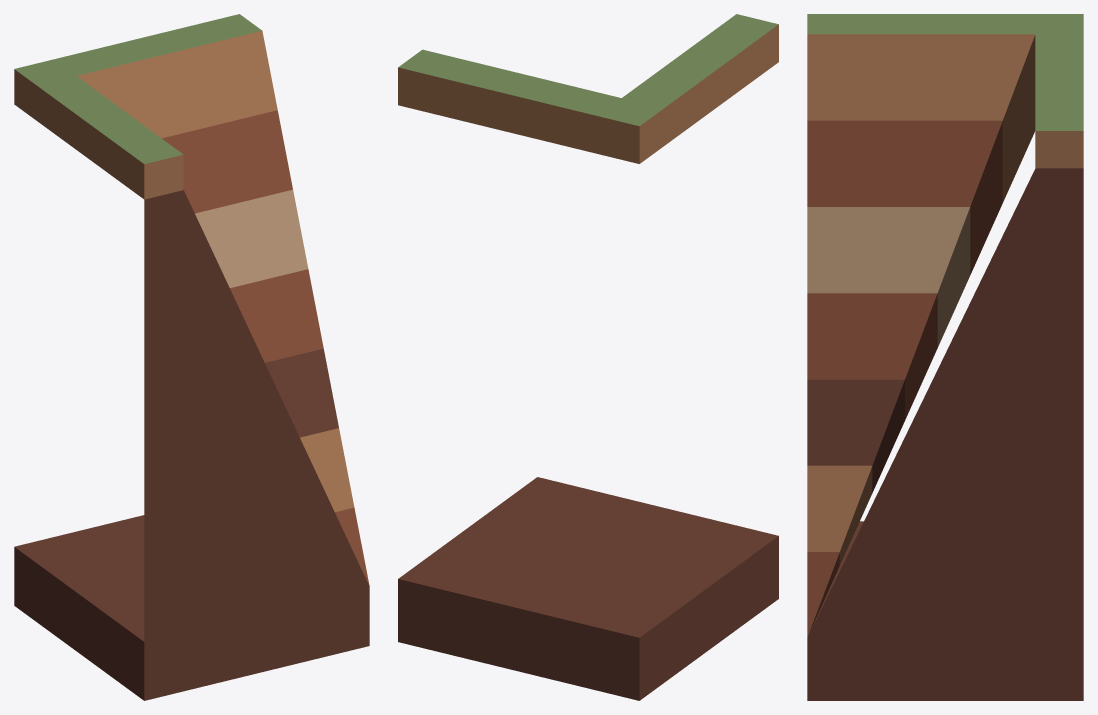
File: t_gorge_corner_out.glb
3 views of the same model, side by side, from view 1: azimuth 30°, elevation 25°; view 2: azimuth 150°, elevation 25°; view 3: azimuth 270°, elevation 25° (orthographic). The views are drawn at different scales.
Visible parts, largest first — view 1: t_gorge_corner_out; view 2: t_gorge_corner_out; view 3: t_gorge_corner_out.
Part boxes in pixels (x1=…): t_gorge_corner_out: x1=14, y1=14, x2=369, y2=700; t_gorge_corner_out: x1=398, y1=14, x2=778, y2=700; t_gorge_corner_out: x1=807, y1=14, x2=1083, y2=700.
Size of the model in its own units: 2 by 4.55 by 2.
